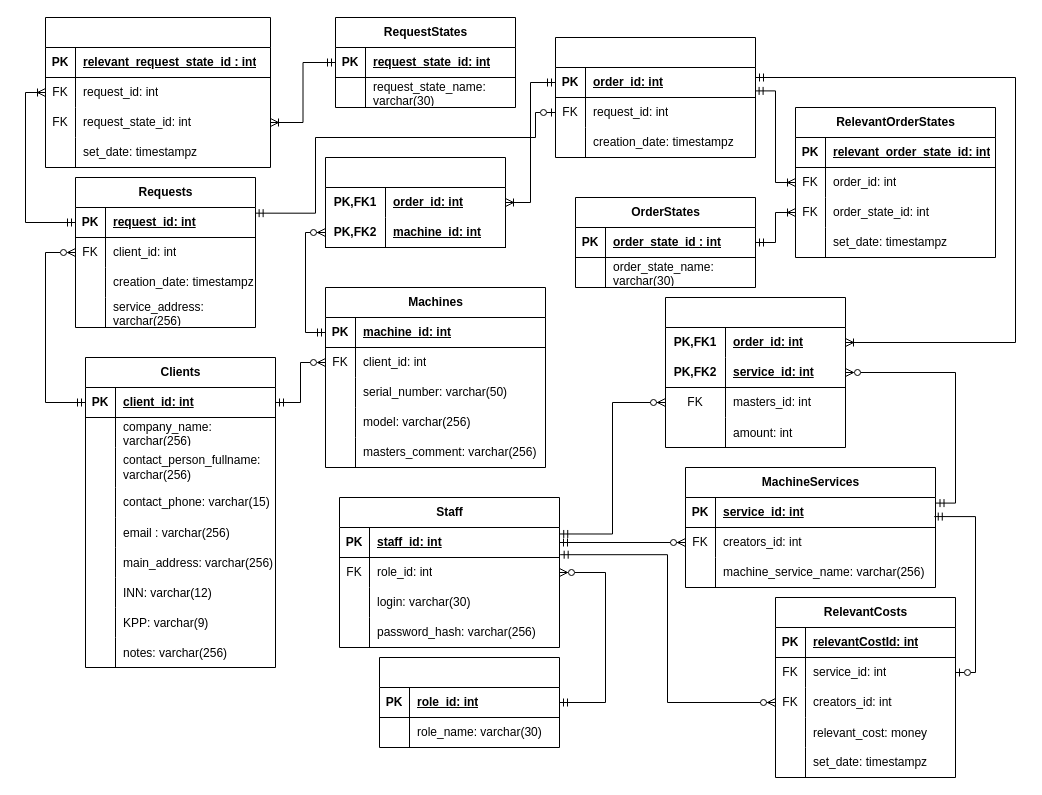
This 1042x795 diagram has some shape labels left out. The shapes that lost their labels are listed below. From the top down, each one's box as (x1, y1, x2, y2) in pixels, then its label:
(44, 16, 270, 168): RelevantRequestStates
(554, 36, 756, 158): Orders
(324, 156, 506, 248): MachinesInOrder
(664, 296, 846, 448): ServiceProvisions
(378, 656, 560, 748): Roles
